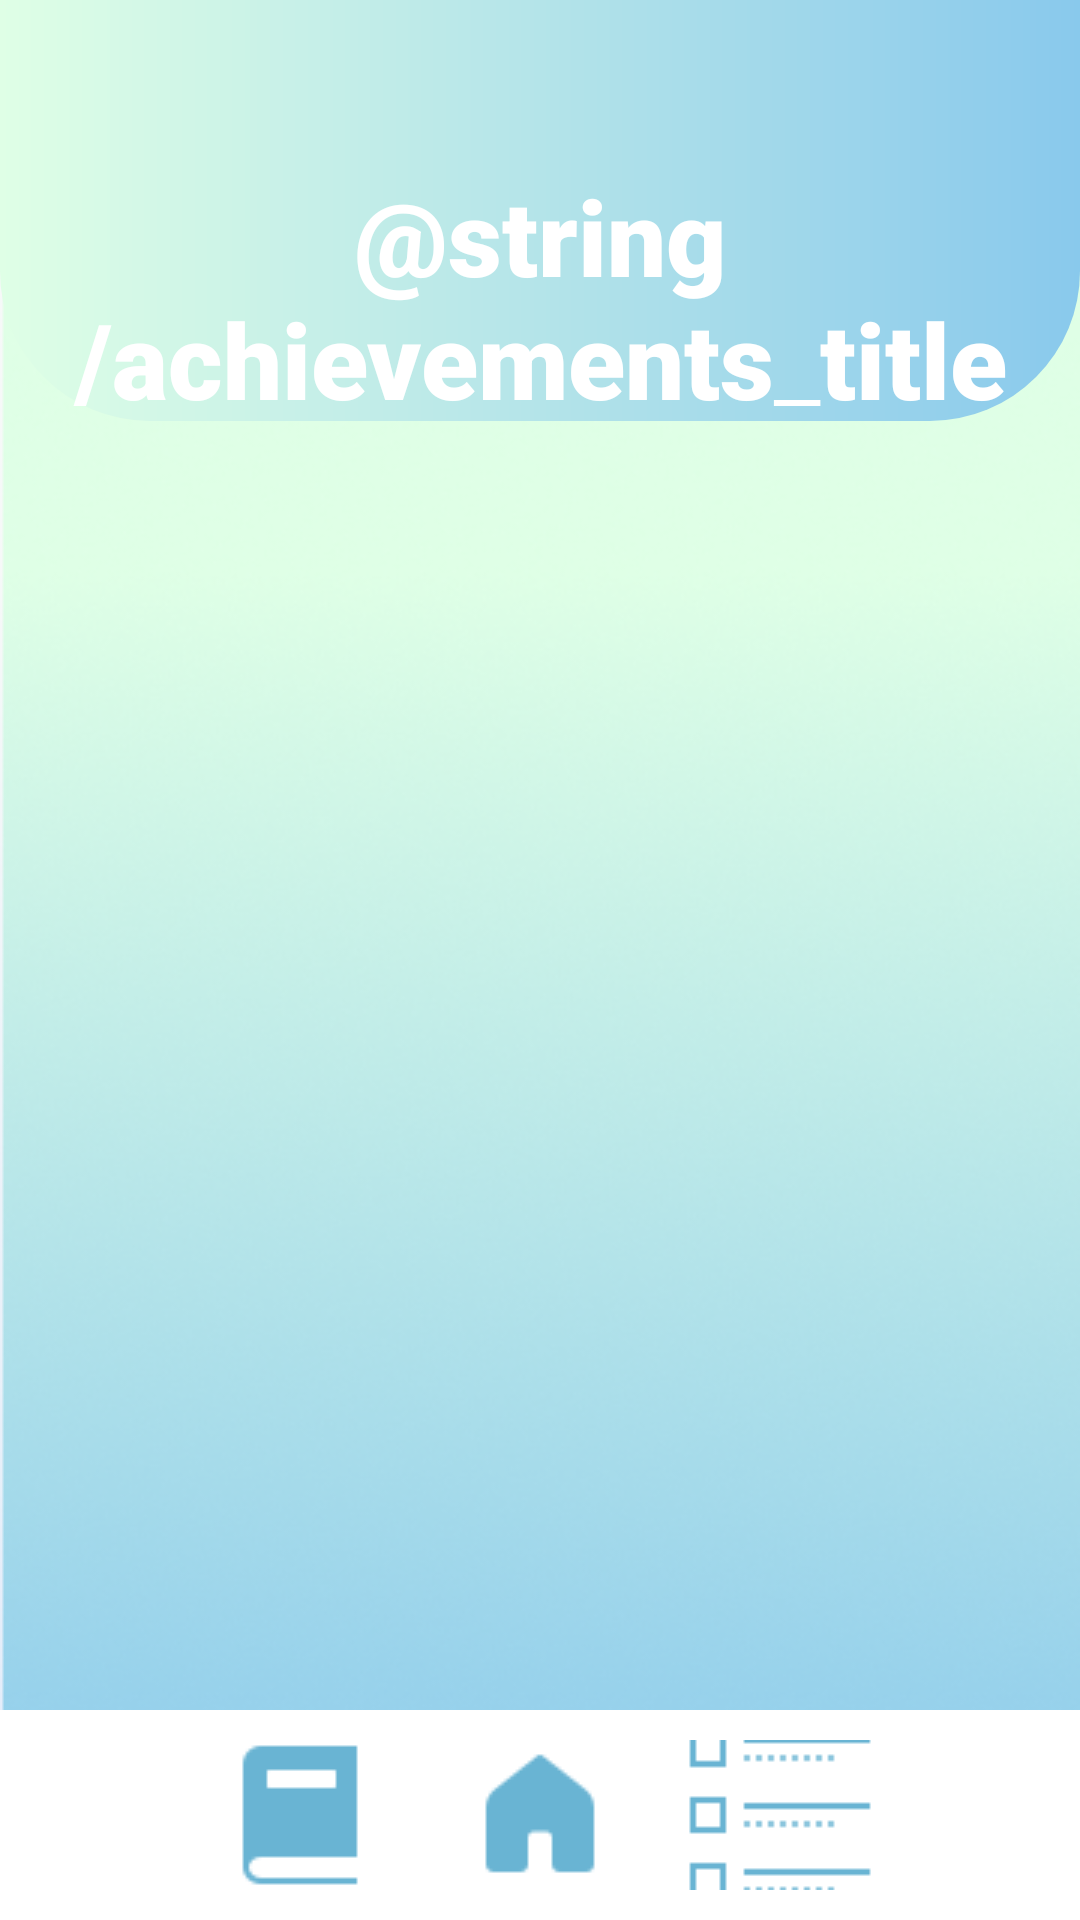

Icon bounding boxes for this 1080 × 1920 phone screenshot, format BBox(x1, y1, x2, y2):
book: BBox(242, 1745, 358, 1885)
home: BBox(485, 1754, 595, 1873)
